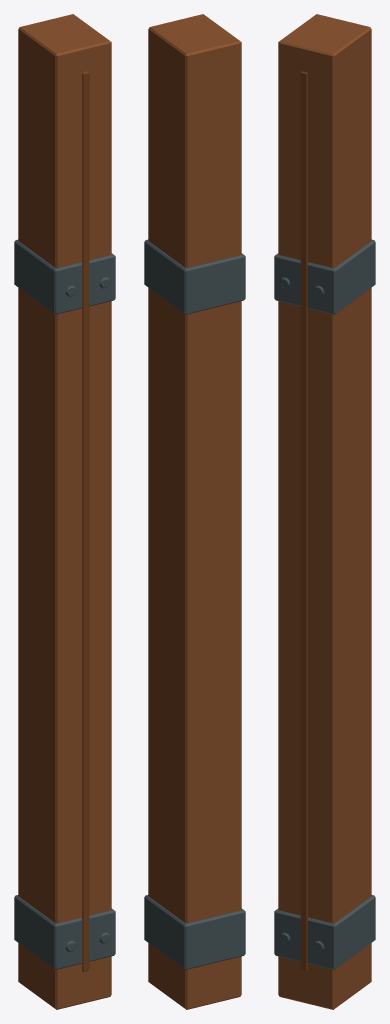
File: timber_post.glb
3 renders of one model, left to right at view 1: azimuth 30°, elevation 25°; view 2: azimuth 210°, elevation 25°; view 3: azimuth 330°, elevation 25°, orthographic.
Parts seen in each view (by area): view 1: timber_post__body__oak, timber_post__body__metal, timber_post__body__grain; view 2: timber_post__body__oak, timber_post__body__metal; view 3: timber_post__body__oak, timber_post__body__metal, timber_post__body__grain.
Boxes of the visible parts, <box> form: timber_post__body__oak: <box>18,14,111,1009</box>; timber_post__body__metal: <box>14,239,115,969</box>; timber_post__body__grain: <box>82,71,89,971</box>; timber_post__body__oak: <box>148,14,241,1009</box>; timber_post__body__metal: <box>144,239,245,969</box>; timber_post__body__oak: <box>278,14,371,1009</box>; timber_post__body__metal: <box>274,239,375,969</box>; timber_post__body__grain: <box>300,71,307,971</box>.
Bounding box in the file's own units: 0.24 × 3.56 × 0.3.
